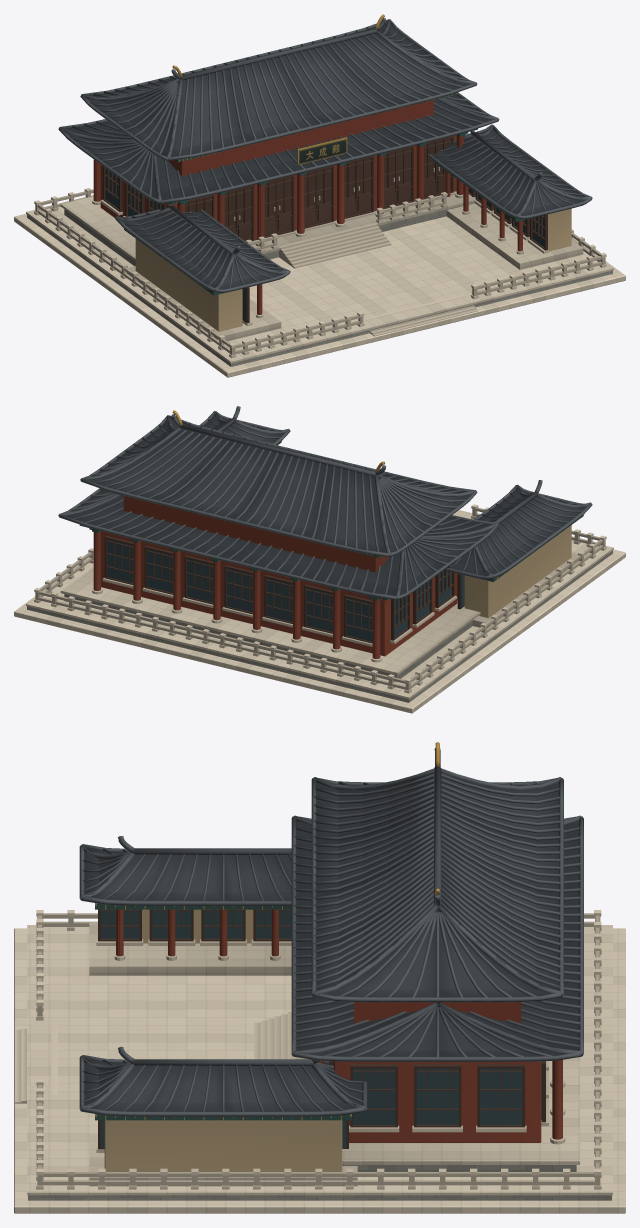
Rendered from fuzimiao.glb.
3 views of the same model, one above another, from view 1: azimuth 30°, elevation 25°; view 2: azimuth 150°, elevation 25°; view 3: azimuth 270°, elevation 25° (orthographic). The views are drawn at different scales.
Visible parts, largest first — view 1: 夫子庙_WEB_建筑; view 2: 夫子庙_WEB_建筑; view 3: 夫子庙_WEB_建筑.
Part boxes in pixels (x1=…): 夫子庙_WEB_建筑: x1=14, y1=14, x2=625, y2=377; 夫子庙_WEB_建筑: x1=14, y1=406, x2=625, y2=713; 夫子庙_WEB_建筑: x1=14, y1=742, x2=625, y2=1213.
Size of the model in its own units: 28 by 12.16 by 26.
13 materials, 4 textured.
